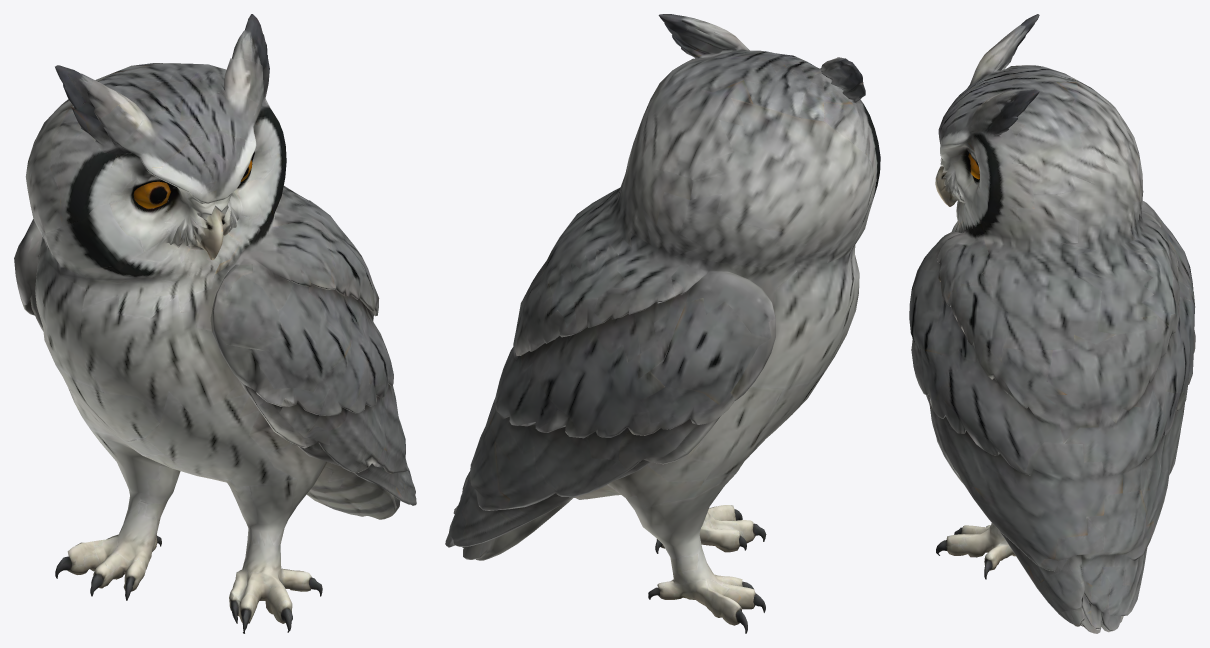
File: owl-whitefaced.glb
The picture shows the model from 3 angles, left to right: view 1: azimuth 30°, elevation 25°; view 2: azimuth 150°, elevation 25°; view 3: azimuth 270°, elevation 25°; orthographic projection. The views are drawn at different scales.
Parts seen in each view (by area): view 1: geometry_0; view 2: geometry_0; view 3: geometry_0.
Part boxes in pixels (x1,y1,x2,y2): geometry_0: (14,14,416,633); geometry_0: (445,14,880,633); geometry_0: (909,14,1195,633).
Bounding box in the file's own units: 0.7031 × 0.9502 × 0.519.
Materials: 1 (1 with a texture image).
